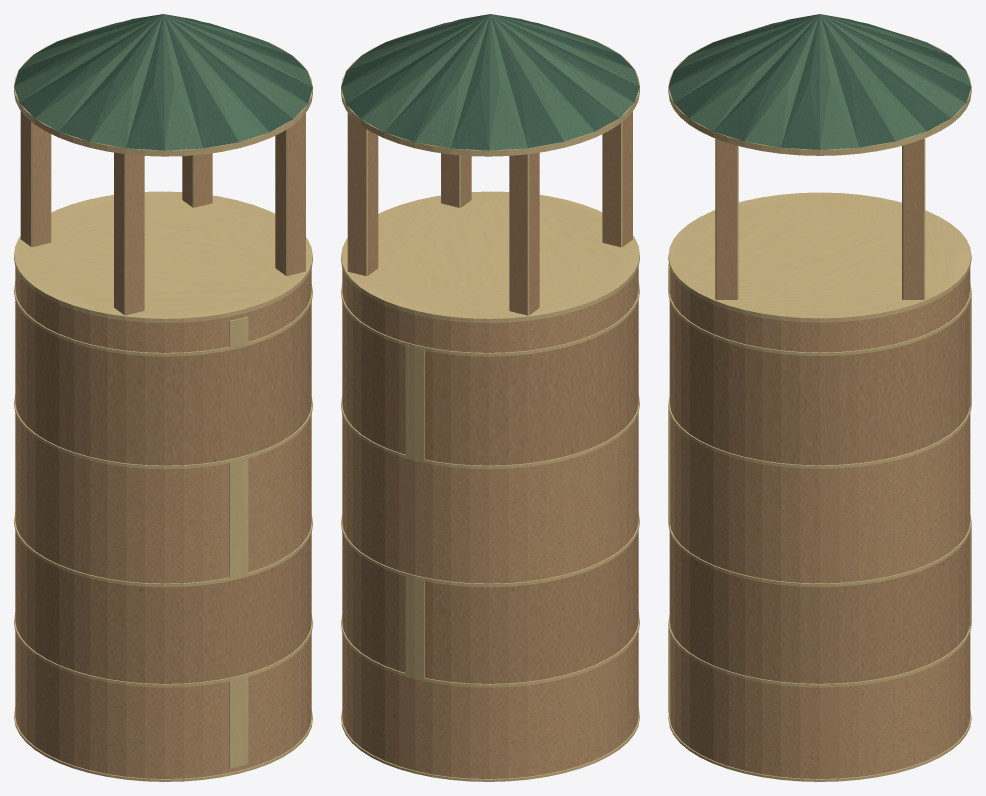
The model's file is tube-tower.fbx.
3 views of the same model, side by side, from view 1: azimuth 30°, elevation 25°; view 2: azimuth 150°, elevation 25°; view 3: azimuth 270°, elevation 25° (orthographic).
Parts seen in each view (by area): view 1: tube-tower; view 2: tube-tower; view 3: tube-tower.
Part boxes in pixels (left/top/right/bottom): tube-tower: left=14, top=14, right=312, bottom=781; tube-tower: left=341, top=14, right=639, bottom=781; tube-tower: left=668, top=14, right=971, bottom=781.
Bounding box in the file's own units: 13022 × 34000 × 13247.
Materials: 1 (1 with a texture image).
